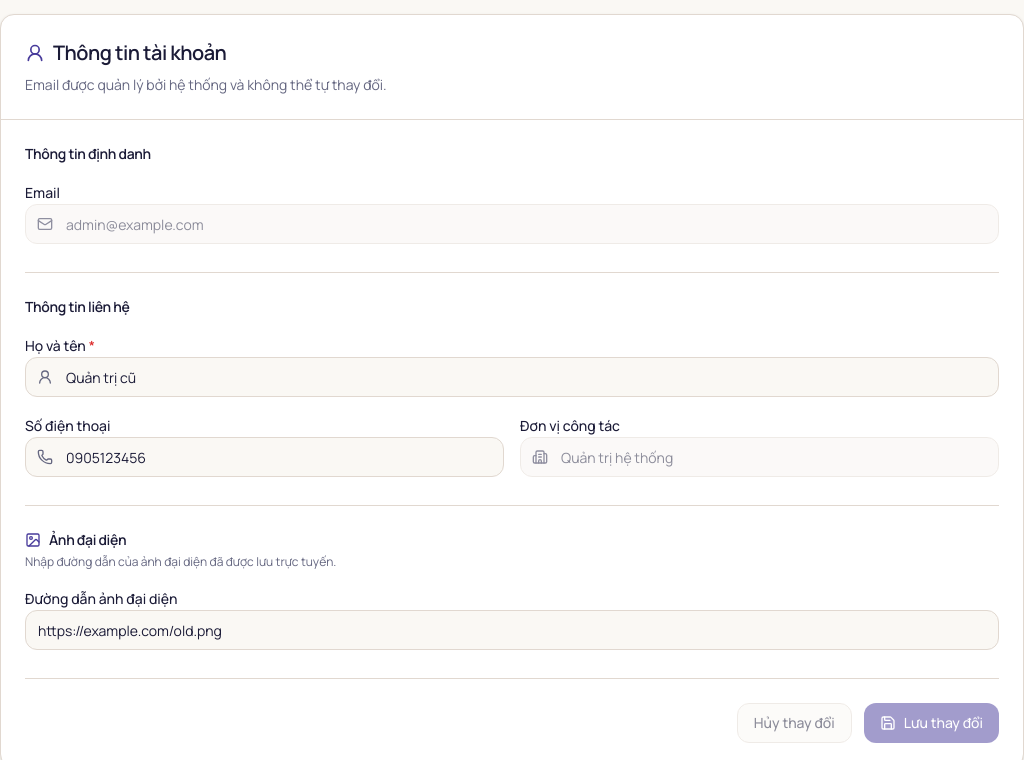
Test: ProfilePage › validates phone and avatar URL before updating
(page scrolled)
Replace the text in the field labelled "Số điện thoại" with "abc" at (264, 457), box [25, 437, 504, 477]
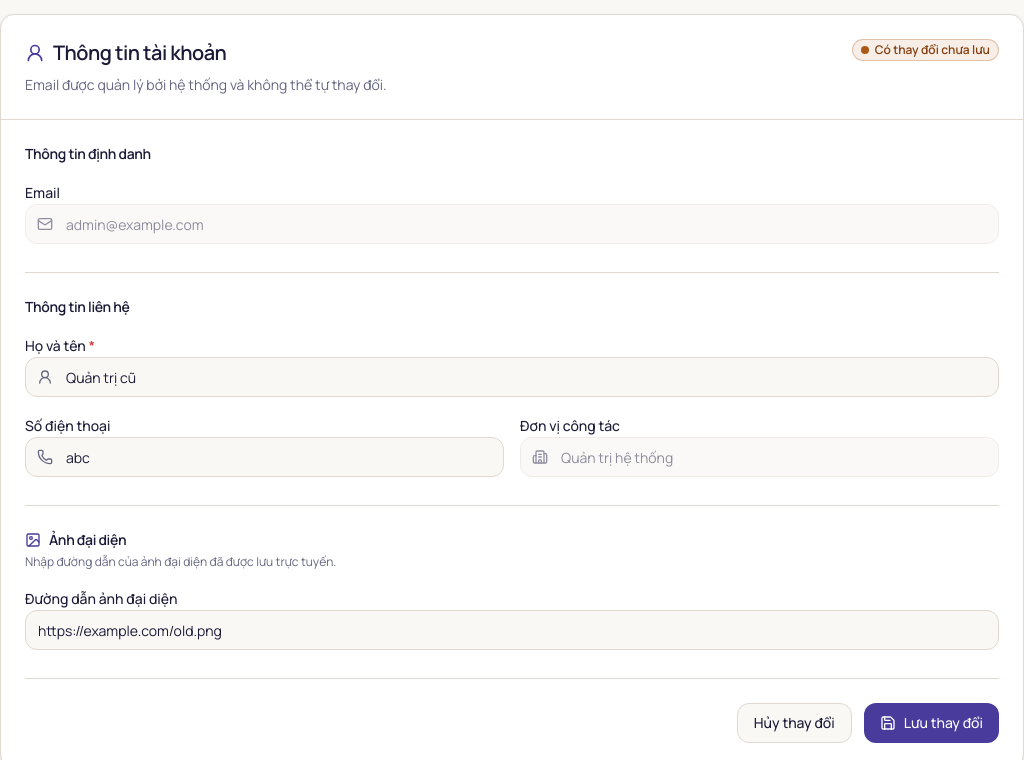
Replace the text in the field labelled "Đường dẫn ảnh đại diện" with "not-a-url" at (512, 630), box [25, 610, 999, 650]
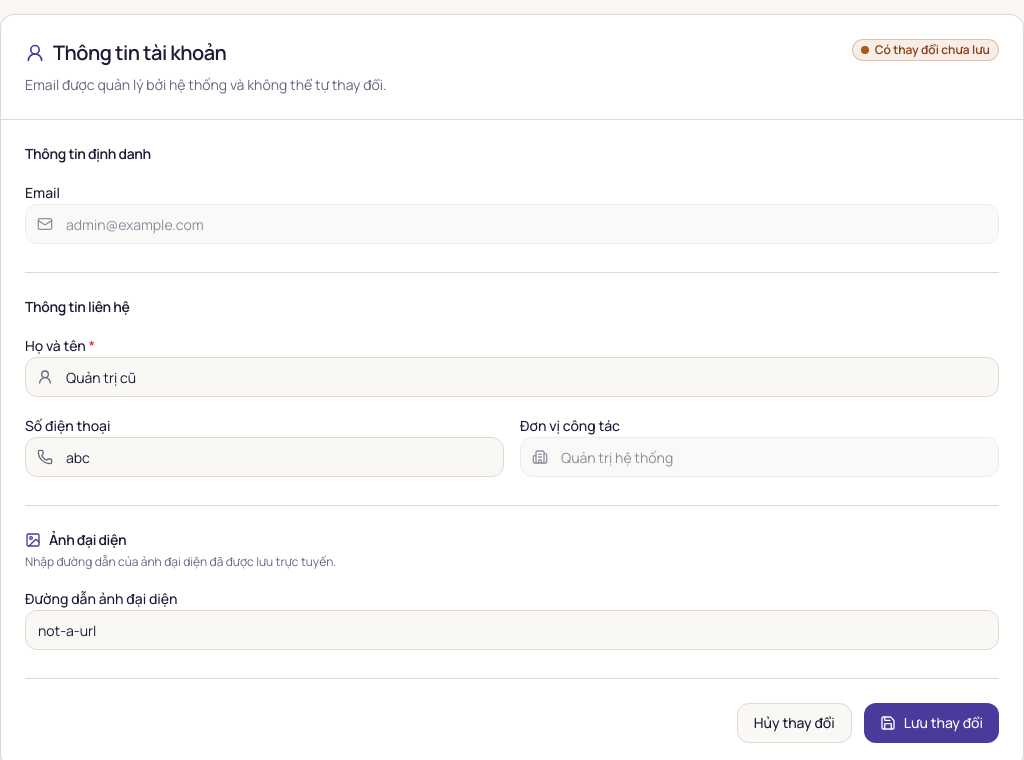
Click the button "Lưu thay đổi" at (931, 723), box [864, 703, 999, 743]
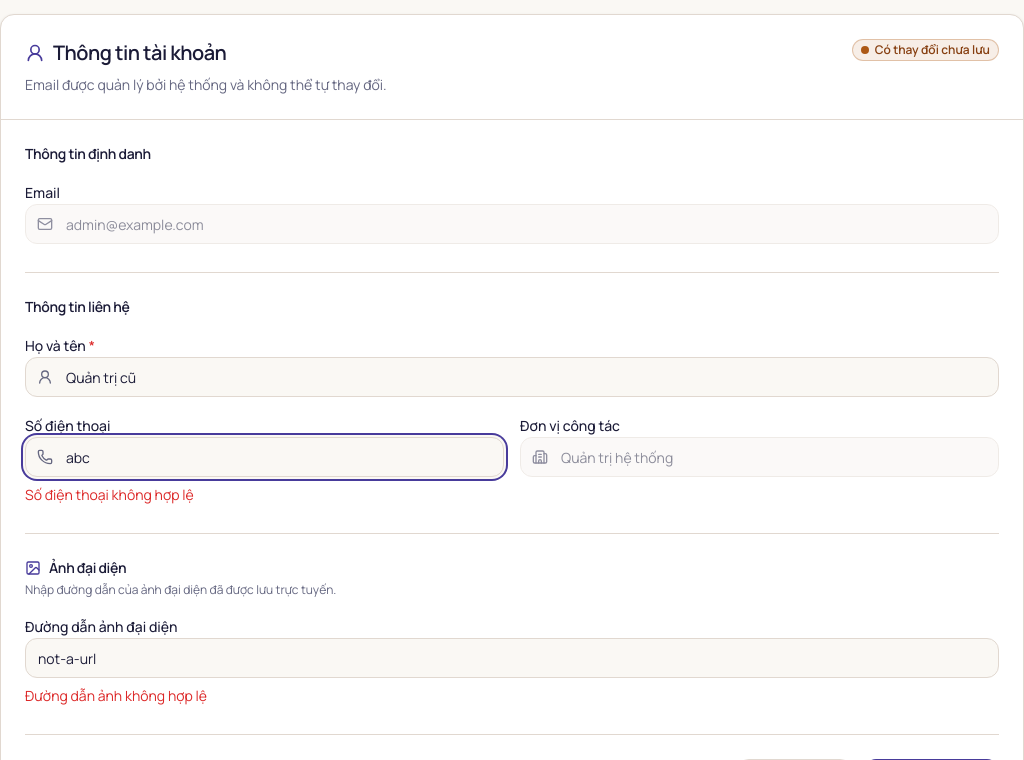
Expected: the text "Số điện thoại không hợp lệ" is shown, [25, 485, 194, 504]
Expected: the text "Đường dẫn ảnh không hợp lệ" is shown, [25, 686, 207, 705]
